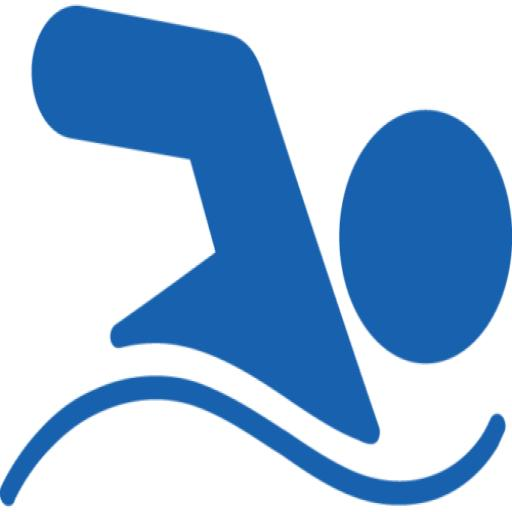swimming: (1, 3, 510, 507)
